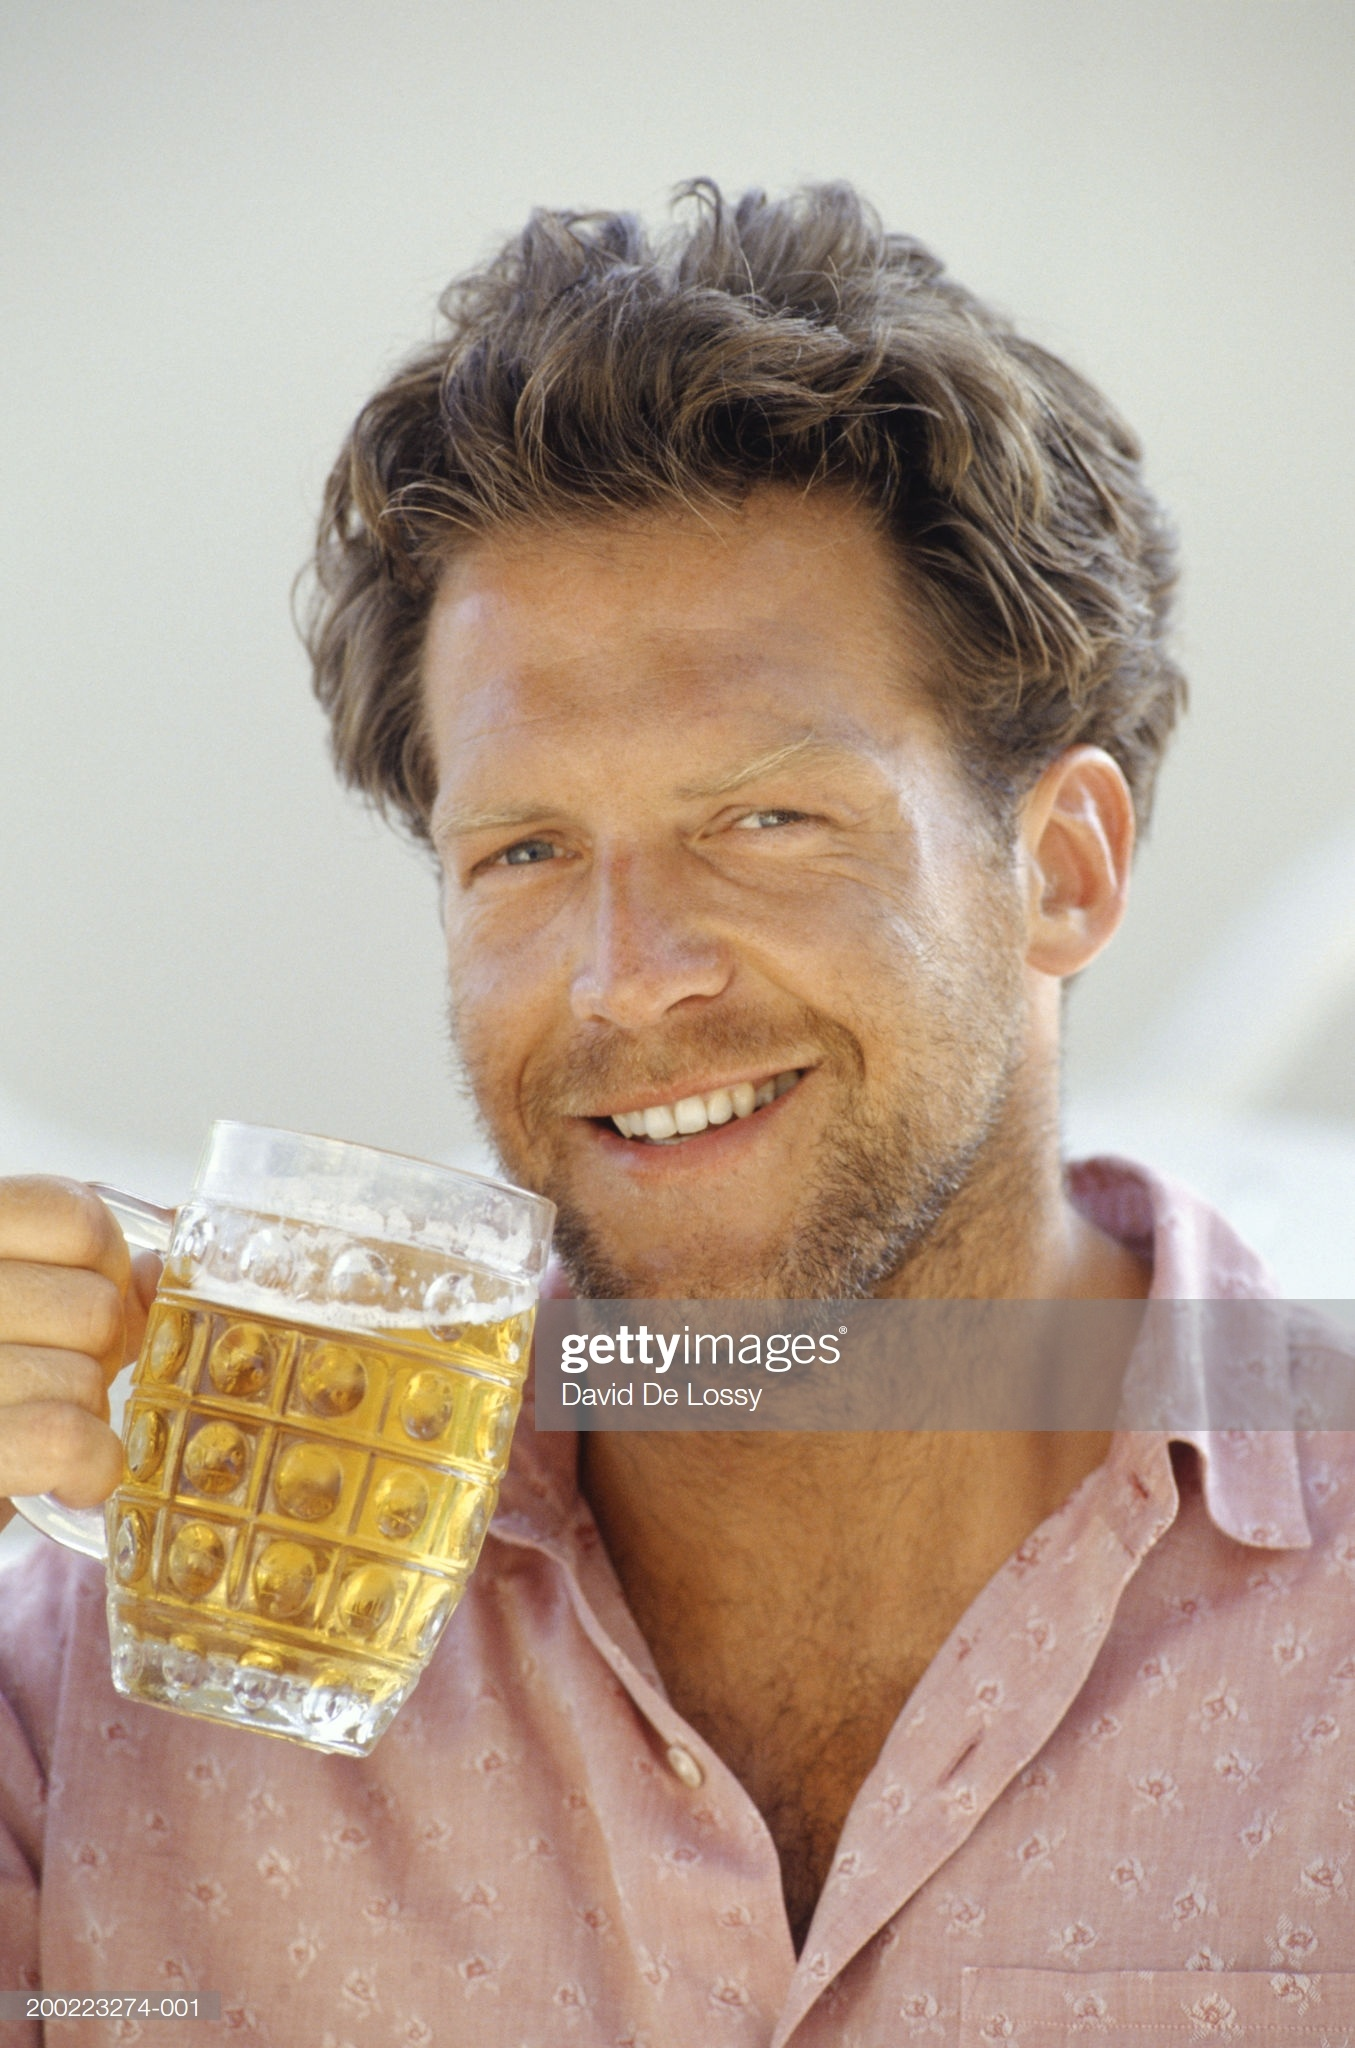glassBeer: (113, 1117, 531, 1737)
